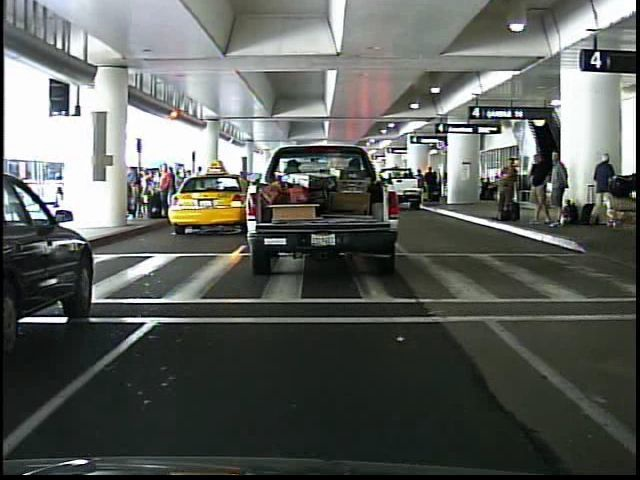person: (588, 149, 615, 232)
